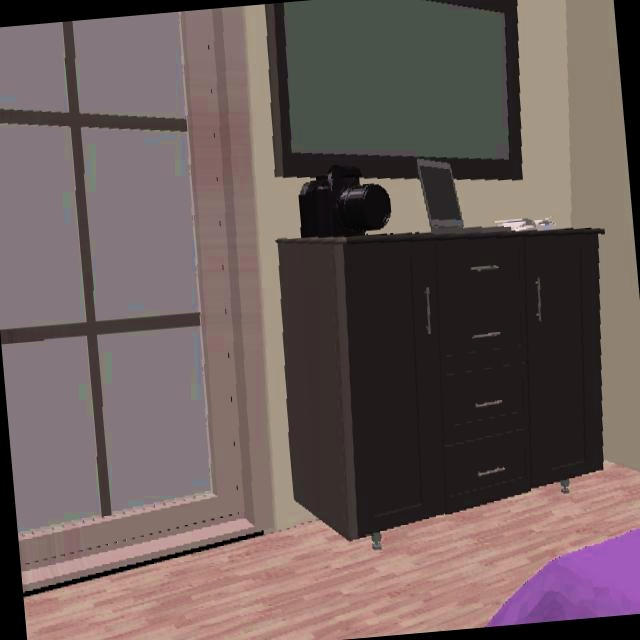book: (496, 218, 557, 232)
cabinet: (279, 227, 602, 536)
laptop: (417, 159, 482, 233)
